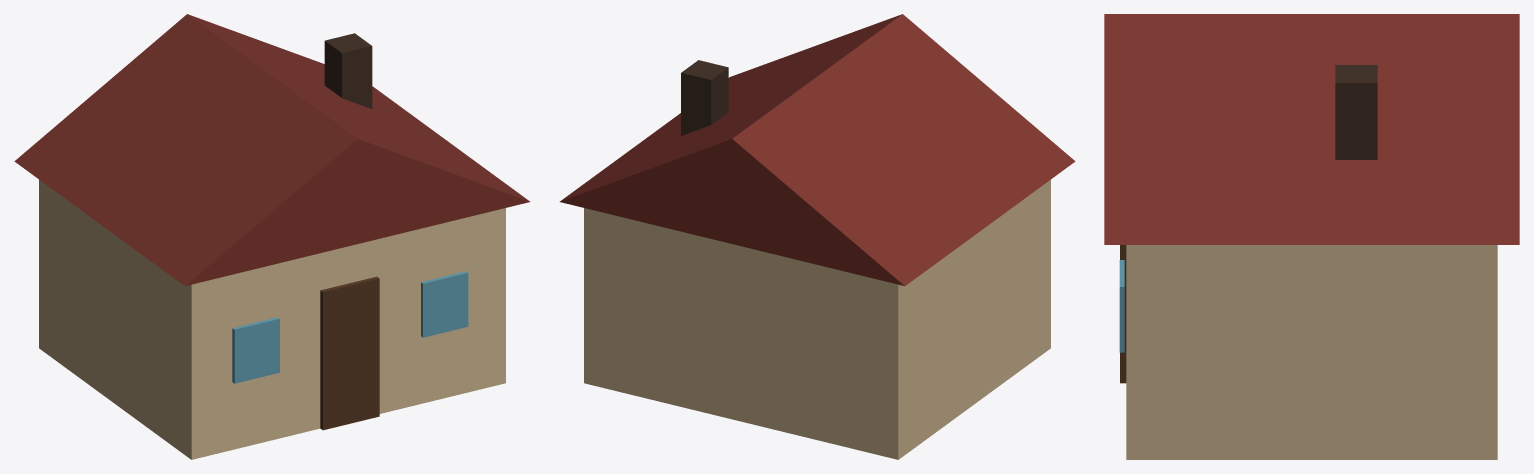
The model's file is house_small.obj.
3 renders of one model, left to right at view 1: azimuth 30°, elevation 25°; view 2: azimuth 150°, elevation 25°; view 3: azimuth 270°, elevation 25°, orthographic. The views are drawn at different scales.
Parts seen in each view (by area): view 1: Cube; view 2: Cube; view 3: Cube.
Boxes of the visible parts, x1,y1,x2,y2 form: Cube: (14, 14, 530, 459); Cube: (559, 14, 1075, 459); Cube: (1104, 14, 1519, 459).
Size of the model in its own units: 5.5 by 4.4 by 4.7.
